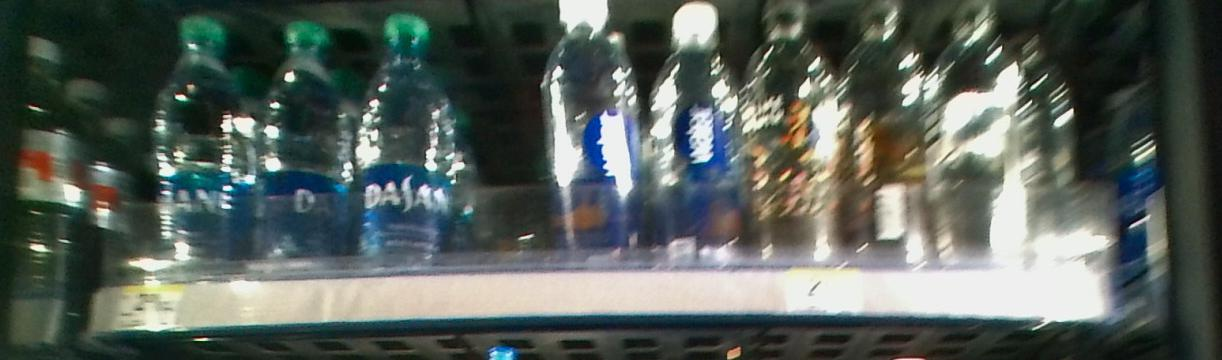bottle: (538, 1, 642, 271), (145, 13, 249, 278), (356, 14, 456, 271), (934, 1, 1025, 269), (650, 2, 741, 266), (747, 7, 839, 265), (257, 13, 347, 272), (846, 7, 924, 273)
